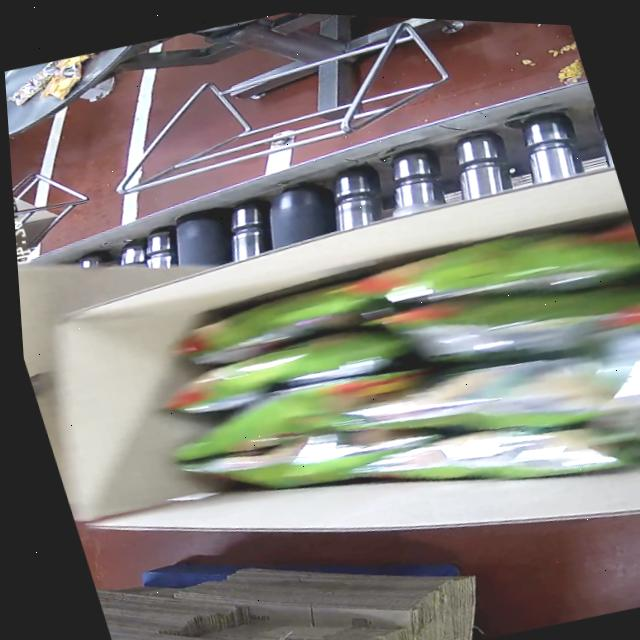YOGURT_HERB: (137, 186, 640, 571)
